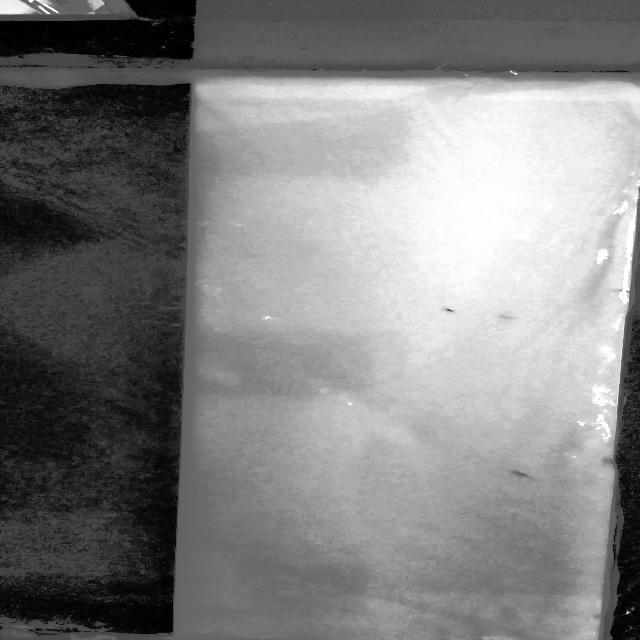shrimp: (489, 300, 531, 325), (505, 464, 542, 482), (439, 301, 466, 316)
